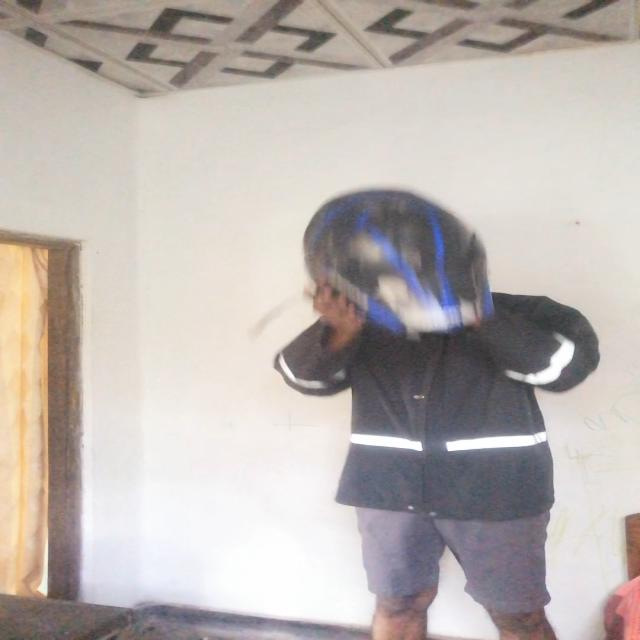Helmet_Wearer: (288, 183, 500, 330)
Jacket_Wearer: (288, 304, 618, 512)
